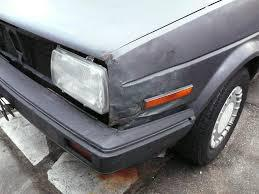front-bumper-dent: (53, 97, 177, 160)
